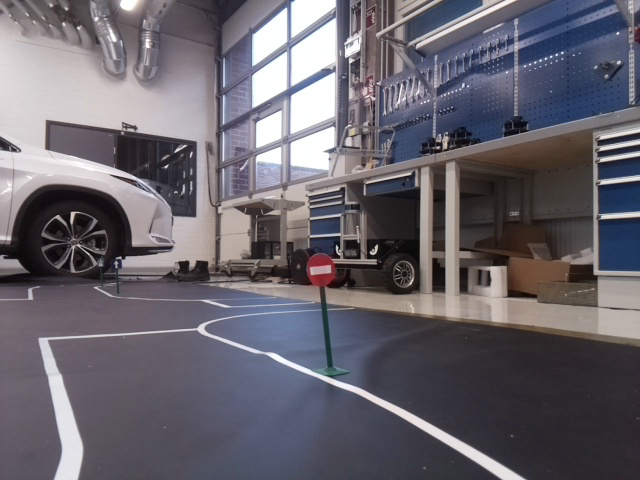NoEntry: (305, 253, 335, 284)
